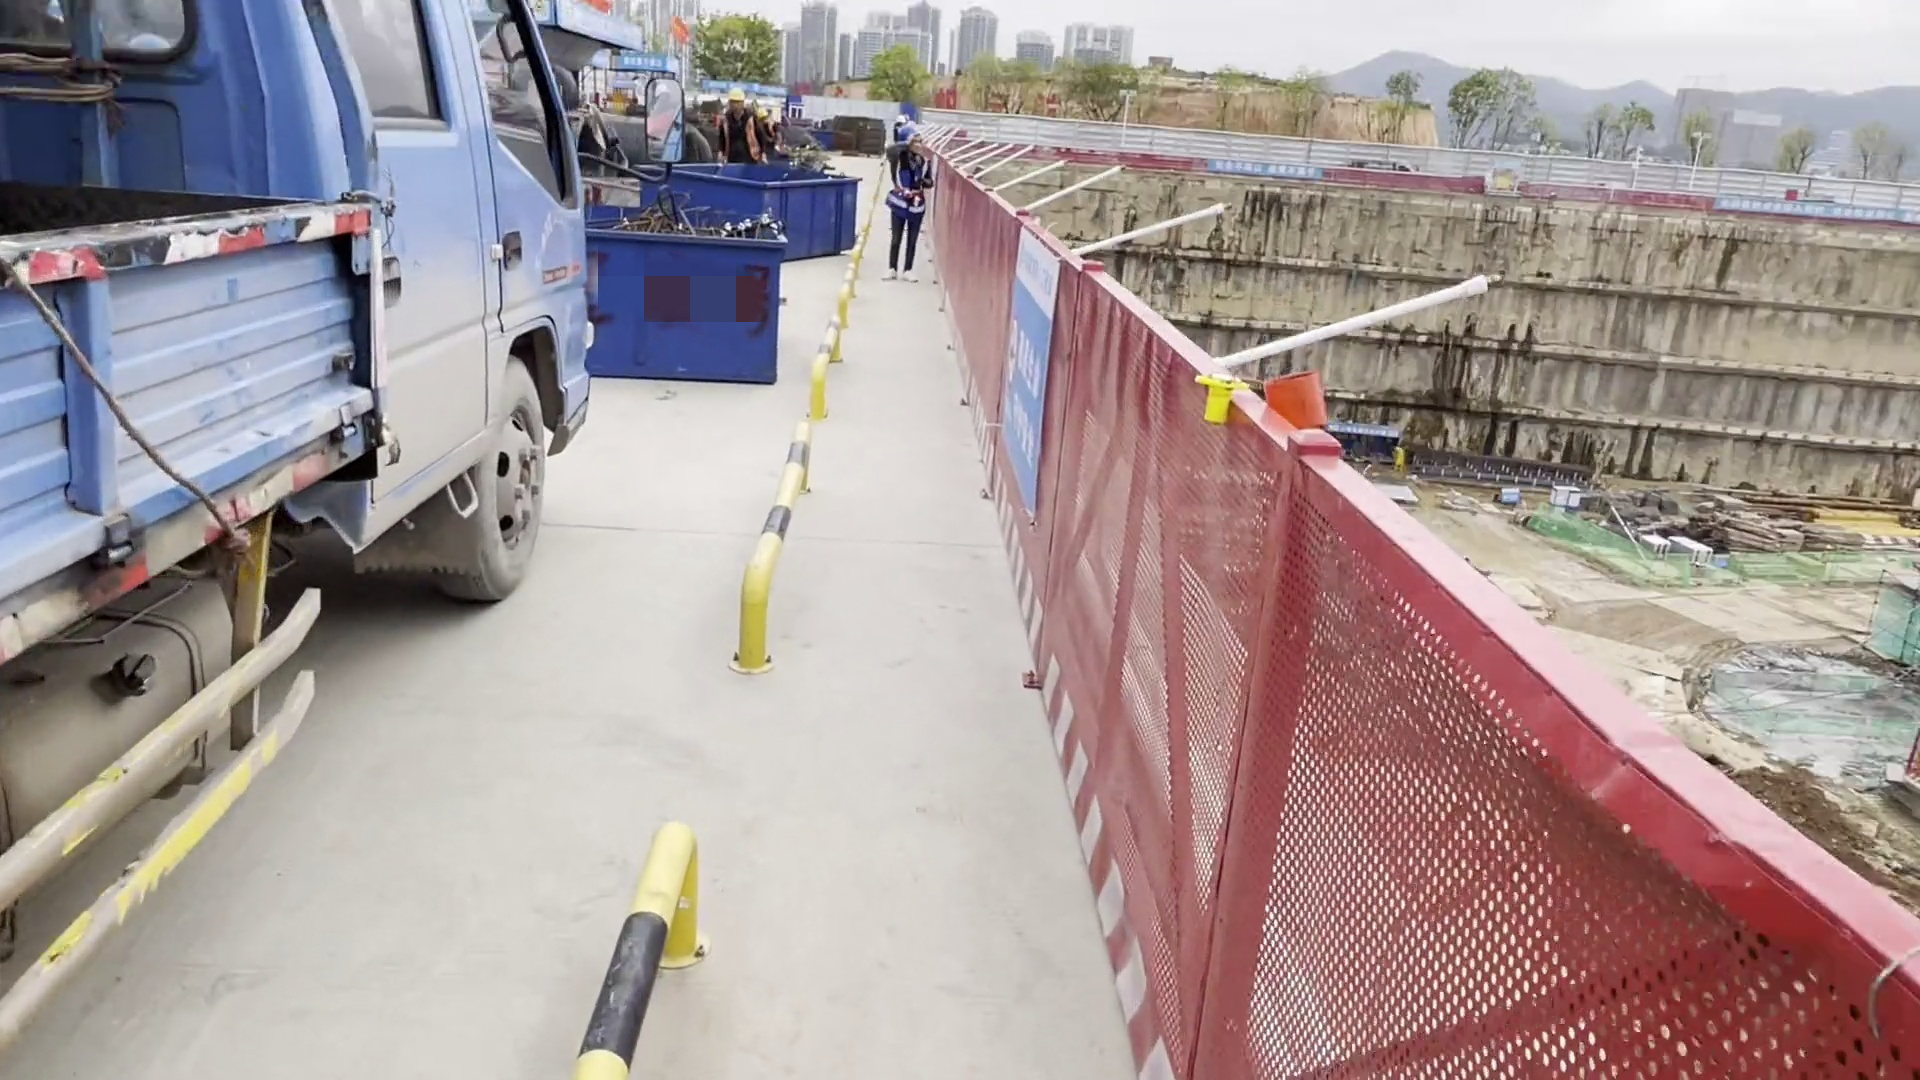fence: (954, 201, 1902, 1080), (1357, 179, 1723, 207)
helmet: (727, 84, 744, 100), (897, 124, 917, 137), (893, 114, 907, 120), (758, 109, 768, 118)
hopper: (589, 219, 792, 388), (668, 163, 861, 265)
person: (885, 112, 941, 277), (715, 84, 764, 162)
slogan: (982, 221, 1071, 544), (1214, 163, 1329, 184)
vest: (894, 153, 930, 213), (725, 111, 762, 154)
